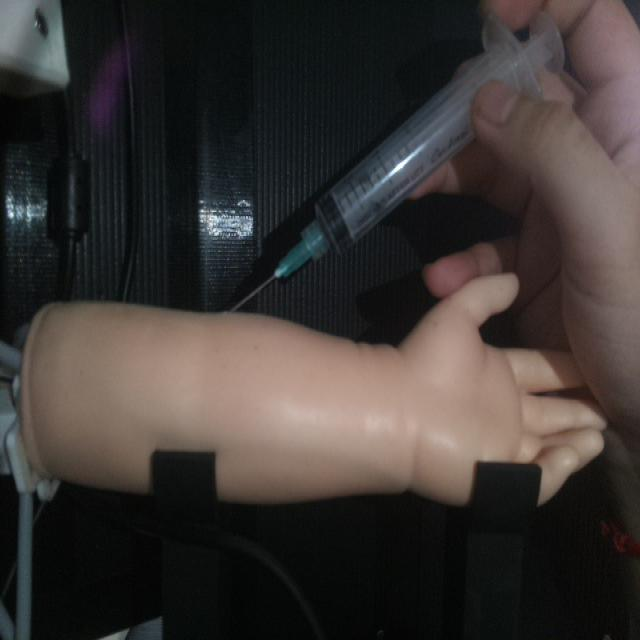Outside: (226, 7, 566, 316)
